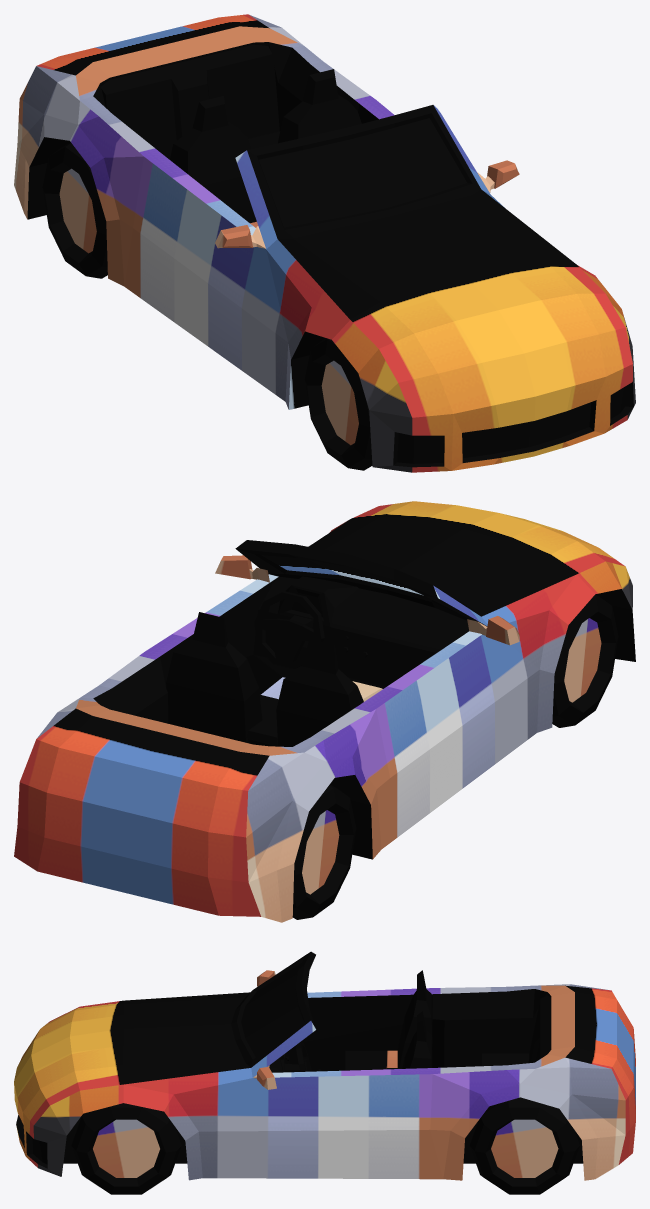
File: Convertible.glb
3 renders of one model, top to bottom at view 1: azimuth 30°, elevation 25°; view 2: azimuth 150°, elevation 25°; view 3: azimuth 270°, elevation 25°, orthographic. The views are drawn at different scales.
Parts seen in each view (by area): view 1: Convertible_mesh; view 2: Convertible_mesh; view 3: Convertible_mesh.
Part boxes in pixels (x1,y1,x2,y2): Convertible_mesh: (14,14,635,472); Convertible_mesh: (14,501,635,922); Convertible_mesh: (14,951,635,1194).
Bounding box in the file's own units: 4.32 × 3.06 × 10.14.
1 material, 1 textured.
